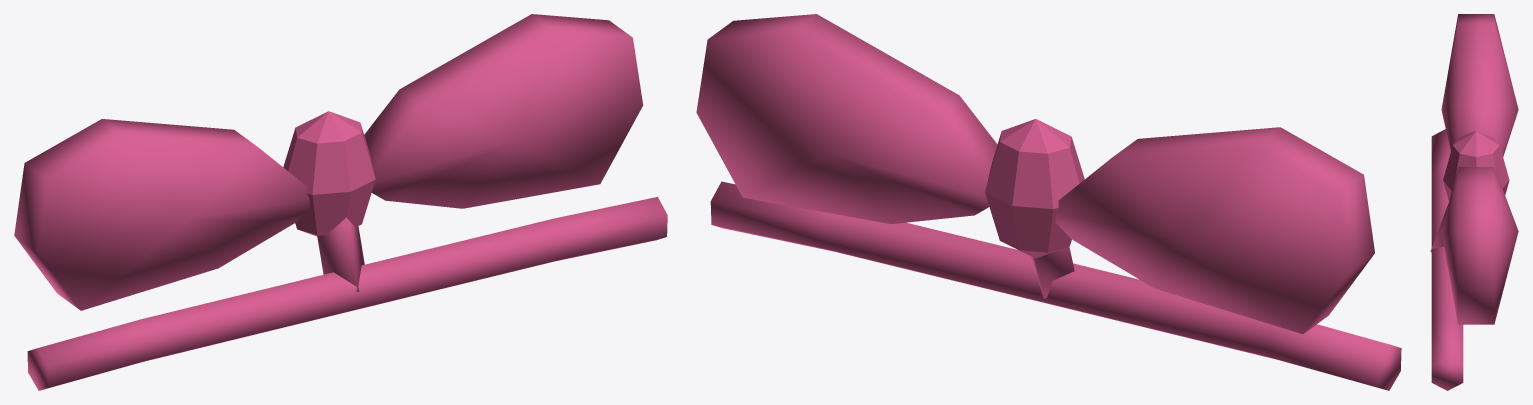
File: head-bow.glb
3 views of the same model, side by side, from view 1: azimuth 30°, elevation 25°; view 2: azimuth 150°, elevation 25°; view 3: azimuth 270°, elevation 25° (orthographic). The views are drawn at different scales.
Visible parts, largest first — view 1: accessory_bow; view 2: accessory_bow; view 3: accessory_bow.
Part boxes in pixels (x1=…): accessory_bow: x1=14, y1=14, x2=667, y2=390; accessory_bow: x1=696, y1=14, x2=1401, y2=390; accessory_bow: x1=1430, y1=14, x2=1518, y2=390.
Size of the model in its own units: 0.3608 by 0.126 by 0.0584.
